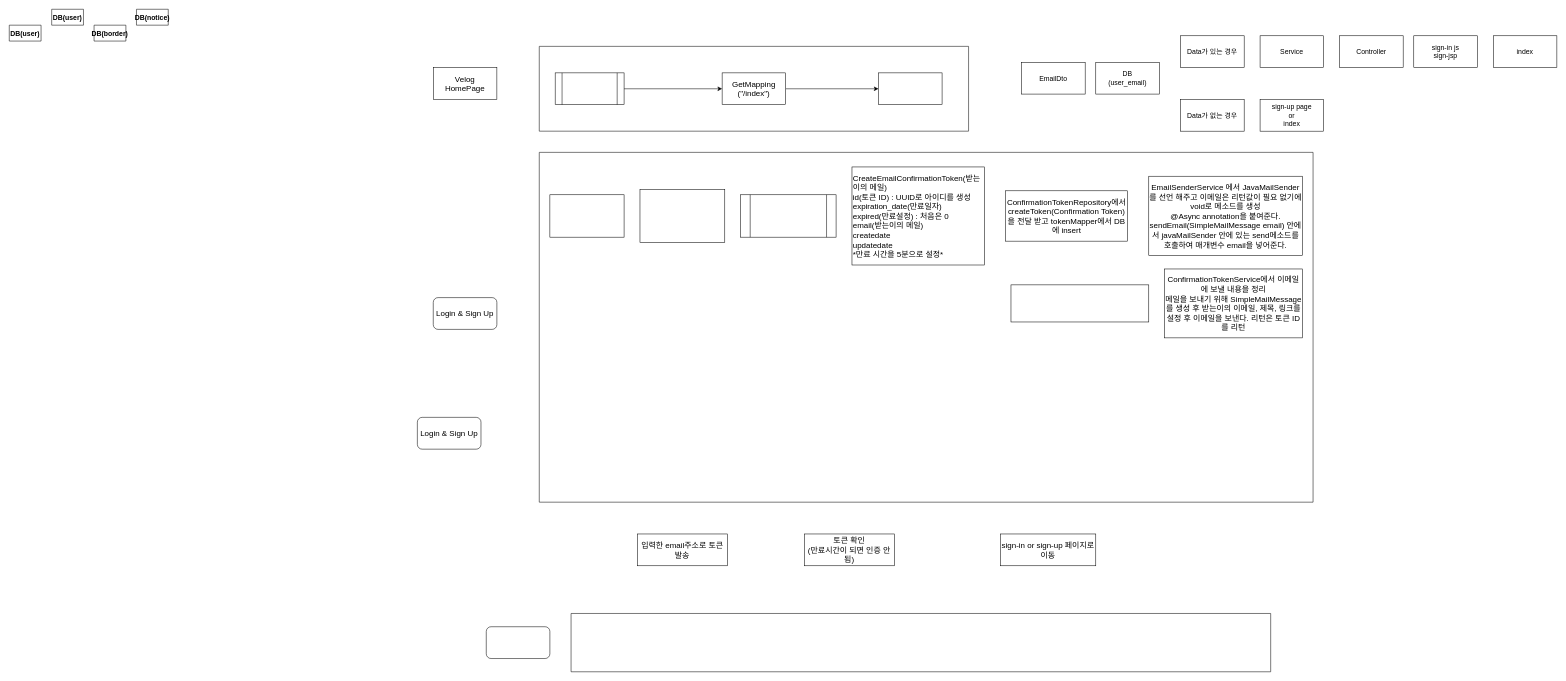
Image size: 1566x681. Some labels were removed from this diagram. Here are the shapes that lost their labels. From the top down, the centre of each, then its label:
point 589,88: sign_in Controller
point 910,88: index.jsp 호출
point 586,215: 로그인 버튼을 클릭 시 sign_in 호출하고 이메일을 입력
point 682,215: sign_in.js에서 get으로 SignRestController에서 "/email/send" 를 호출
point 788,215: ConfirmationToken에서 DB에 넣을 토큰 객체를 설정
point 1079,303: 이메일 발송 후 alert으로 확인 메세지를 통해 해당 메일로 가서 링크를 클릭
